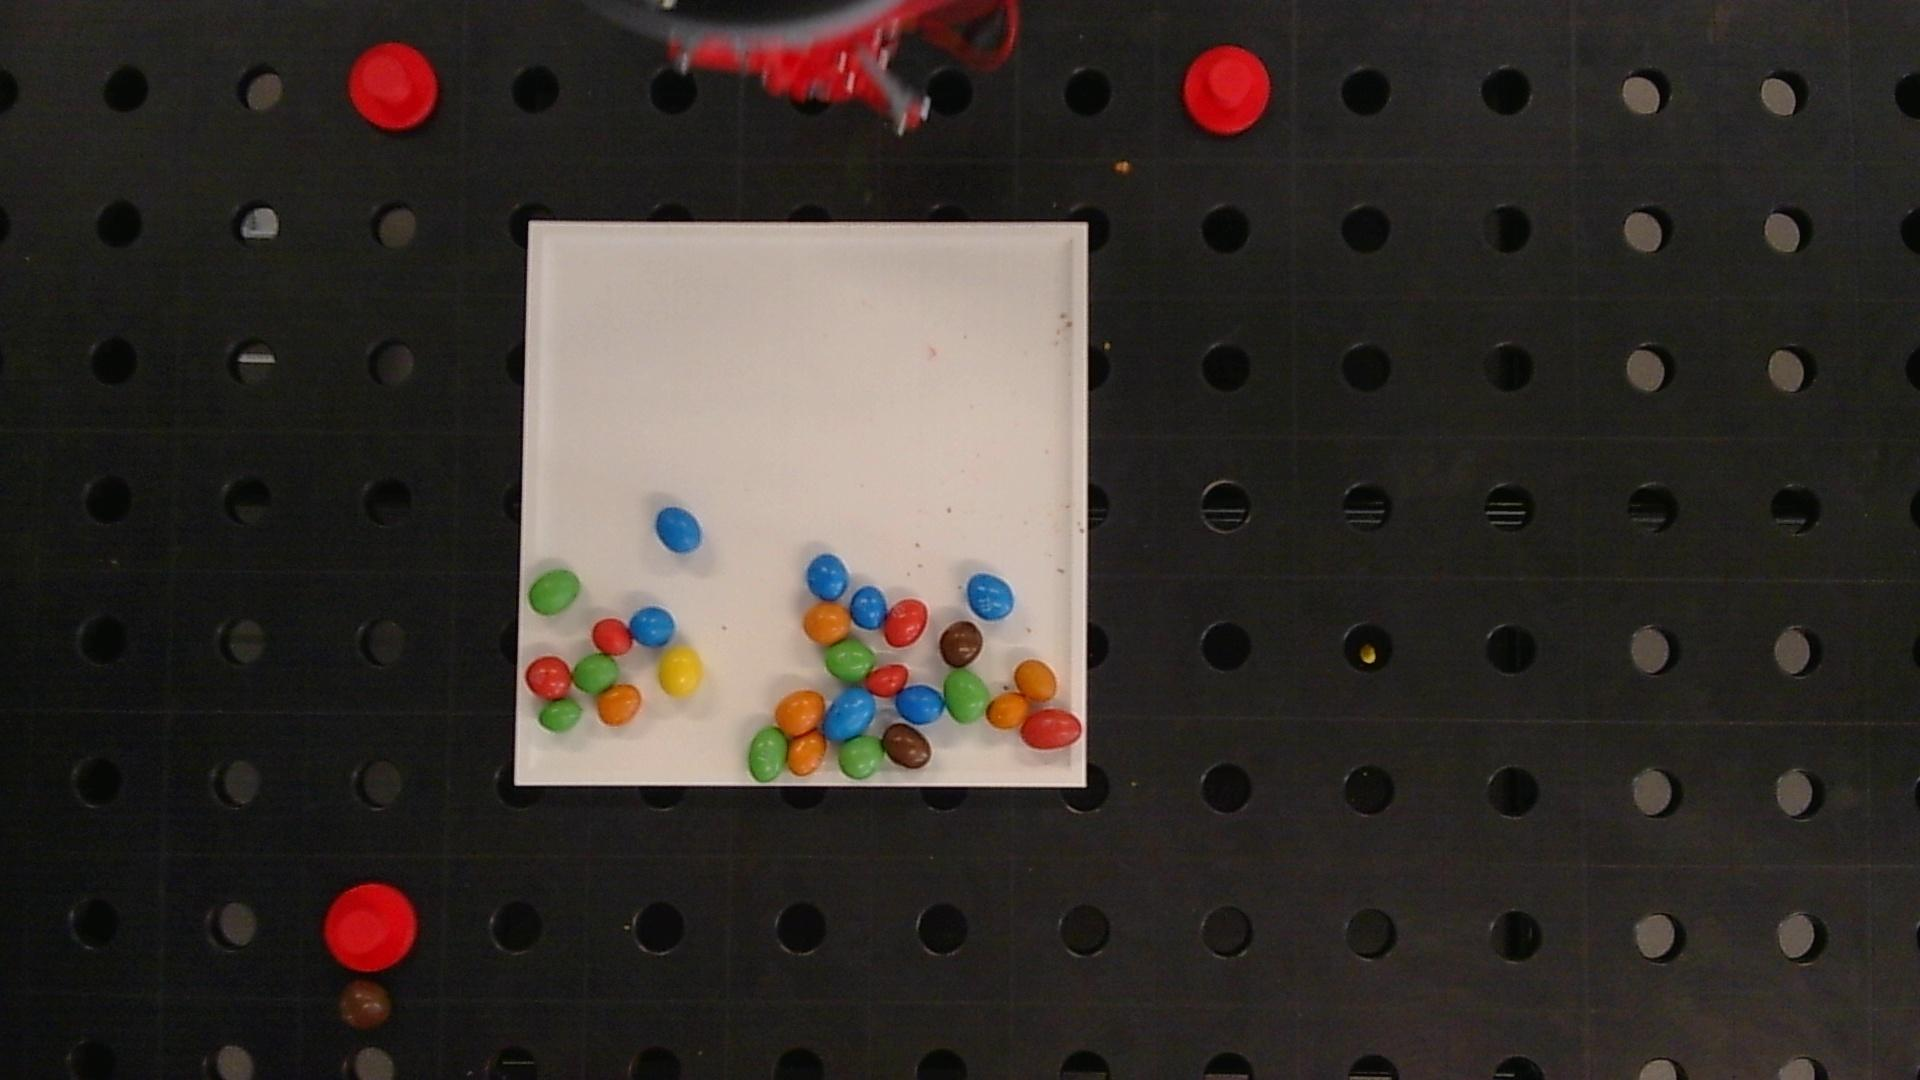blue: (824, 688, 876, 740), (655, 506, 703, 553), (967, 574, 1014, 618), (807, 554, 848, 600), (897, 684, 944, 724), (629, 607, 675, 646), (851, 585, 887, 629)
brown: (882, 723, 932, 769), (939, 620, 984, 667)
green: (527, 570, 580, 615), (944, 670, 989, 723), (748, 727, 787, 782), (827, 641, 876, 682), (839, 737, 884, 779), (574, 654, 617, 694), (538, 699, 583, 733)
orange: (775, 690, 825, 736), (596, 683, 642, 725), (804, 603, 851, 645), (1014, 659, 1056, 702), (787, 731, 827, 775), (986, 694, 1029, 728)
red: (1019, 711, 1083, 748), (525, 655, 572, 699), (885, 599, 927, 646), (592, 618, 632, 655), (866, 663, 909, 695)
yellow: (658, 647, 703, 696)
